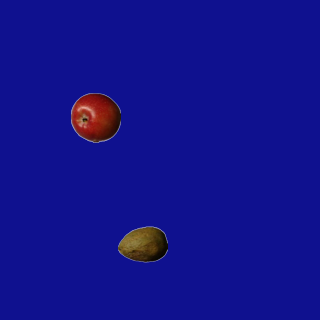Apple Braeburn: (70, 92, 120, 142)
Papaya: (117, 219, 167, 269)
